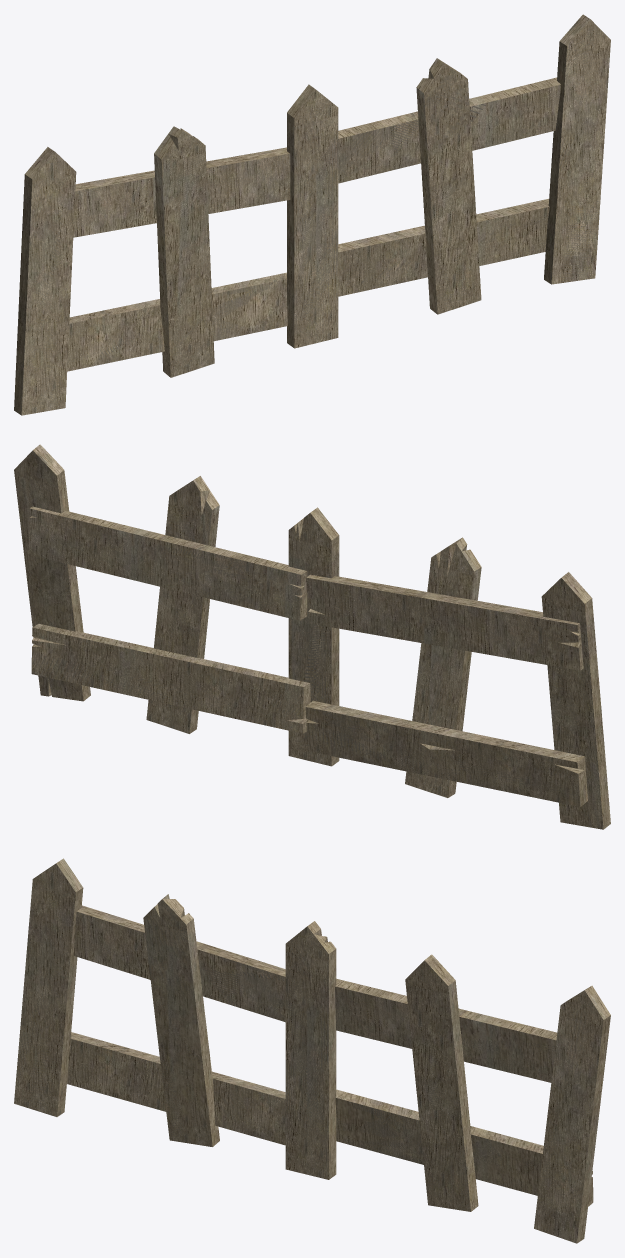
The model's file is Fence 2.fbx.
3 renders of one model, top to bottom at view 1: azimuth 30°, elevation 25°; view 2: azimuth 150°, elevation 25°; view 3: azimuth 330°, elevation 25°, orthographic.
Parts seen in each view (by area): view 1: Model; view 2: Model; view 3: Model.
Part boxes in pixels (x1,y1,x2,y2): Model: [14, 14, 610, 415]; Model: [14, 444, 610, 829]; Model: [14, 858, 610, 1243].
Size of the model in its own units: 53.25 by 21.83 by 3.6.
